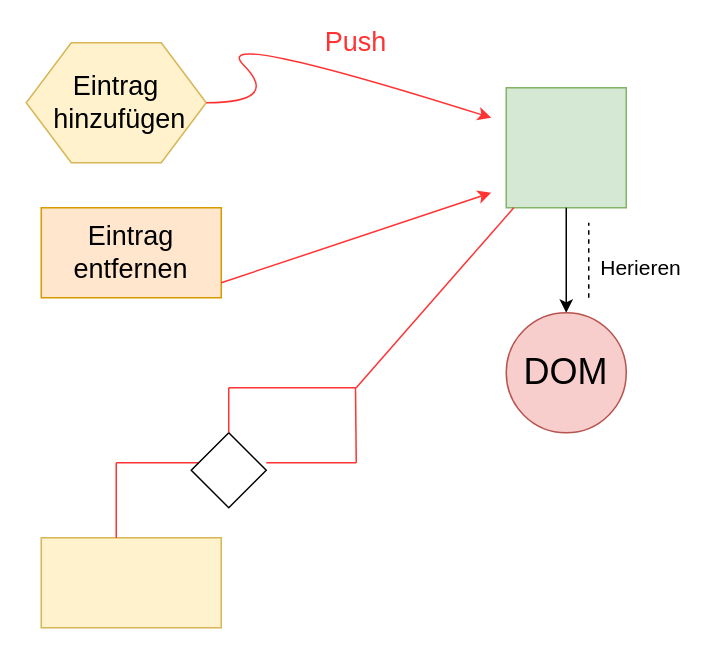
The diagram is 708 pixels wide and 654 high, and some of its shapes have lost their labels. Each missing label, with the centre of its shape:
Abhaken: (x=130, y=582)
Array: (x=565, y=147)
